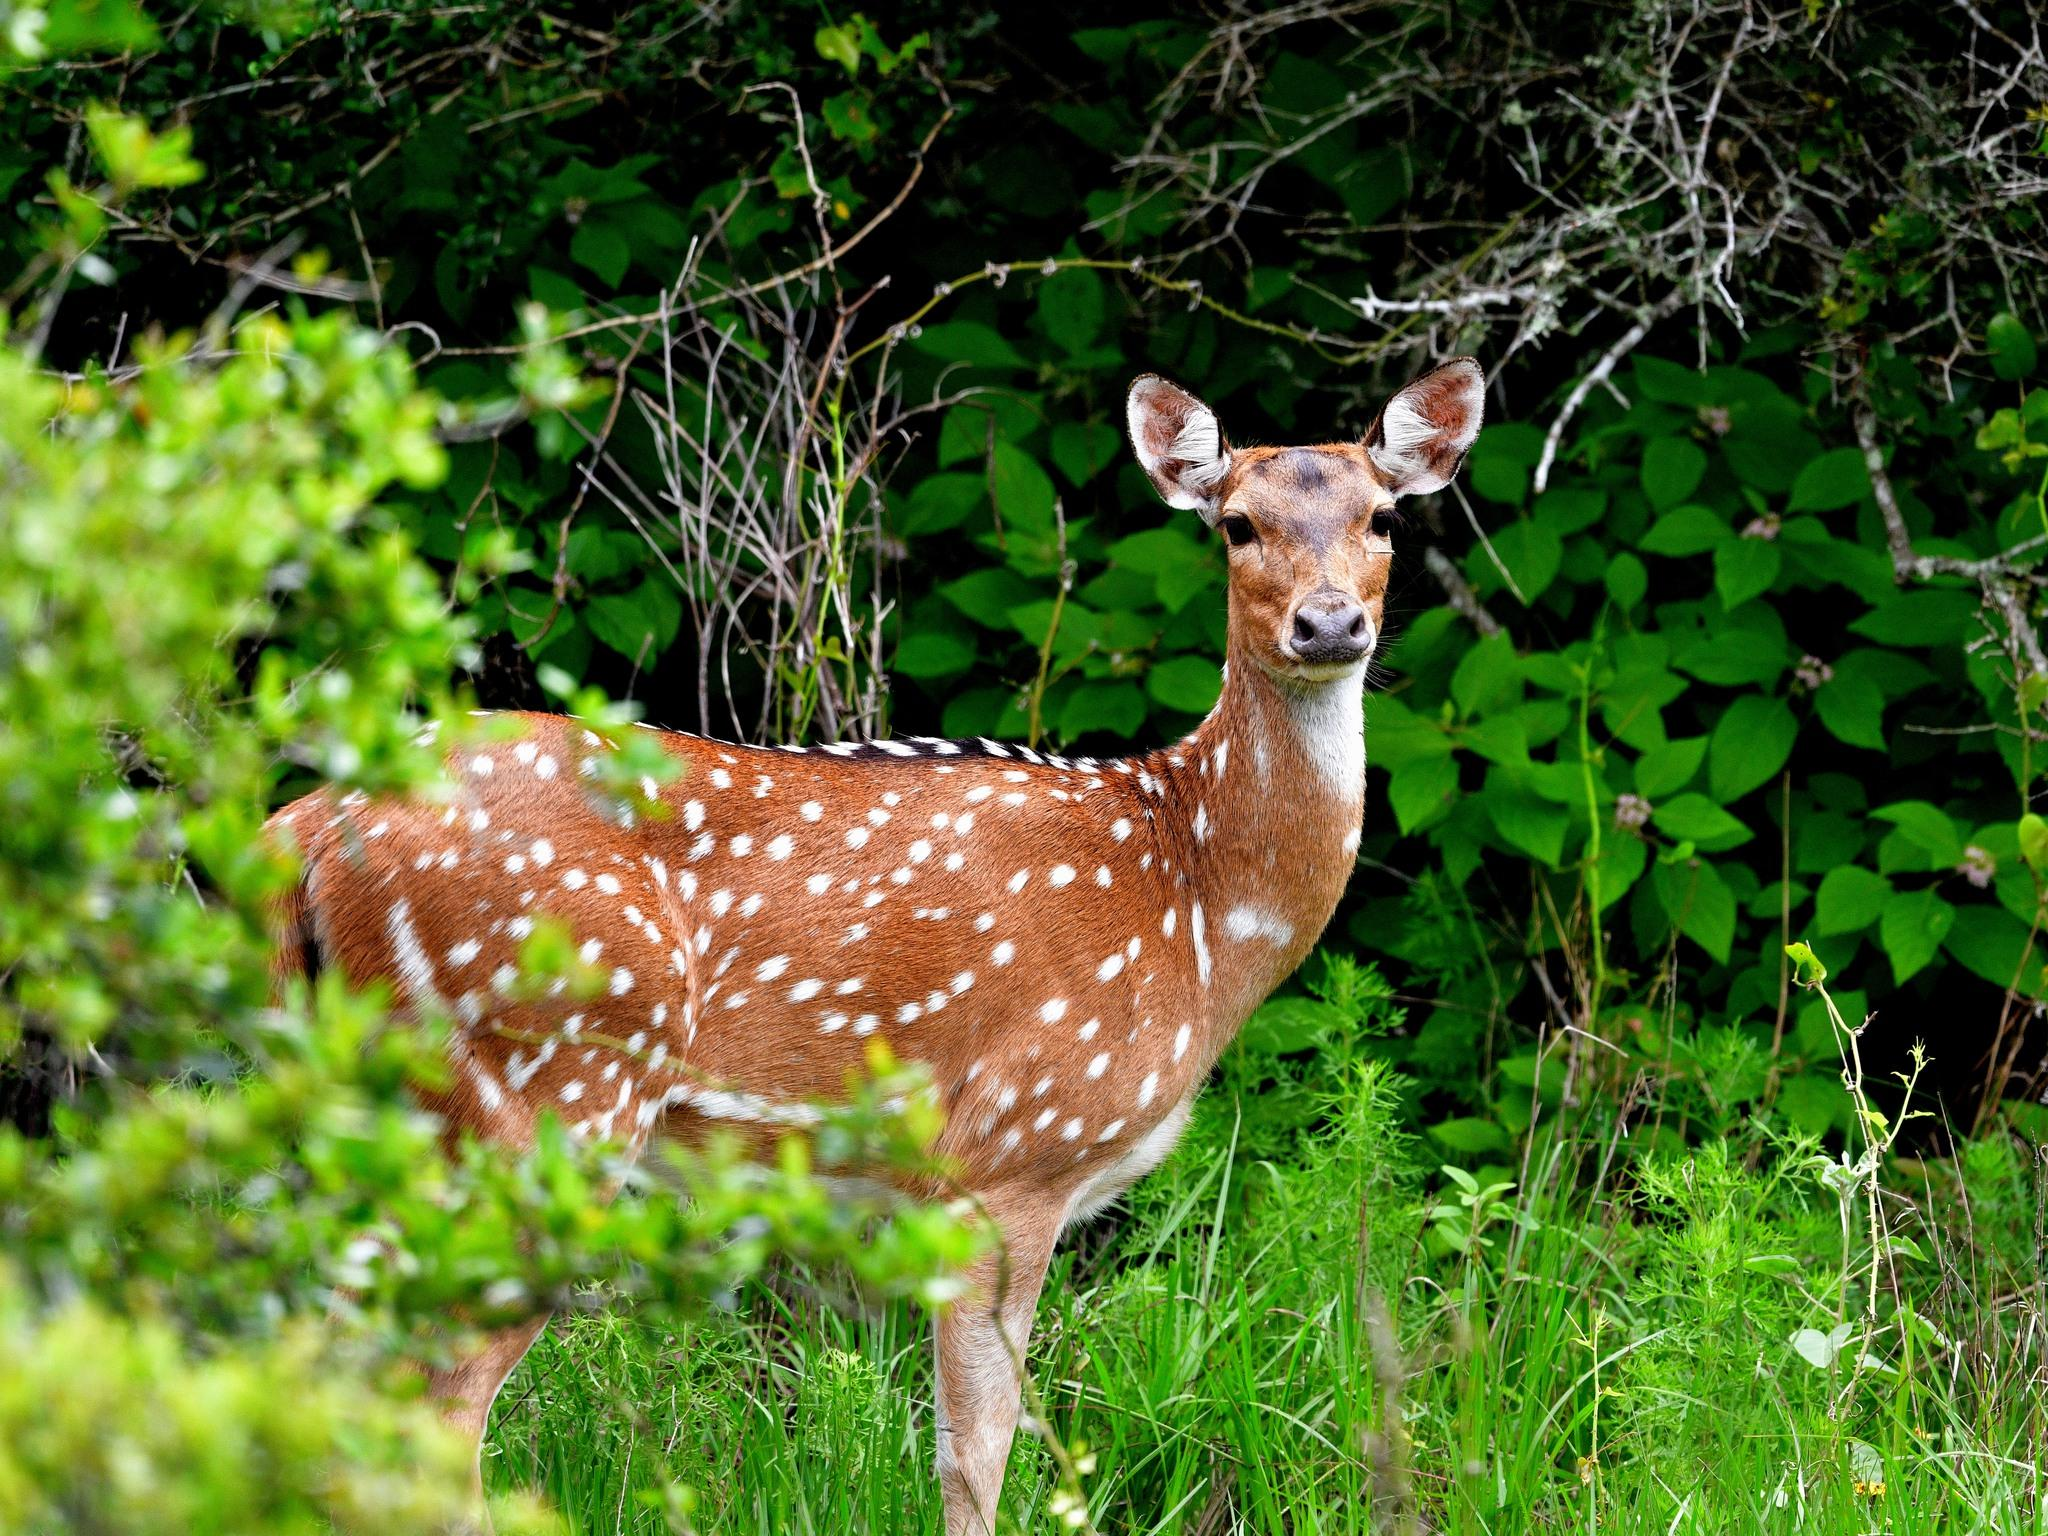Deer: (268, 361, 1480, 1534)
